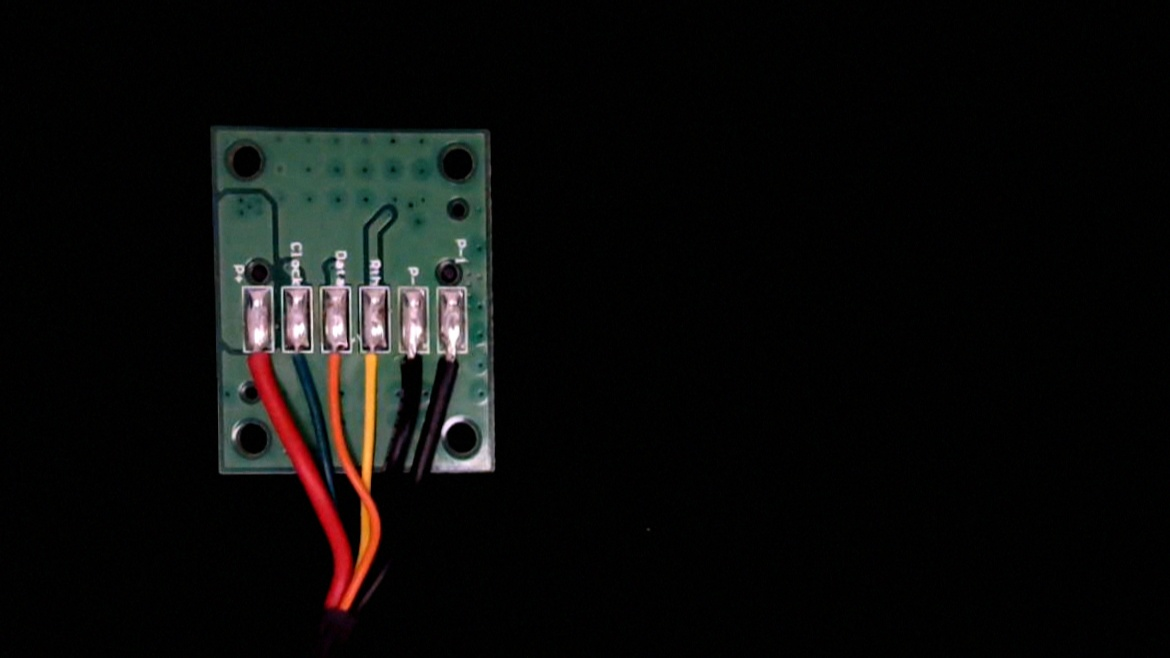Black: (398, 333, 428, 402)
Black1: (439, 335, 471, 404)
Green: (281, 328, 312, 393)
Orange: (320, 330, 350, 395)
Red: (240, 328, 275, 401)
Yellow: (361, 332, 388, 403)
